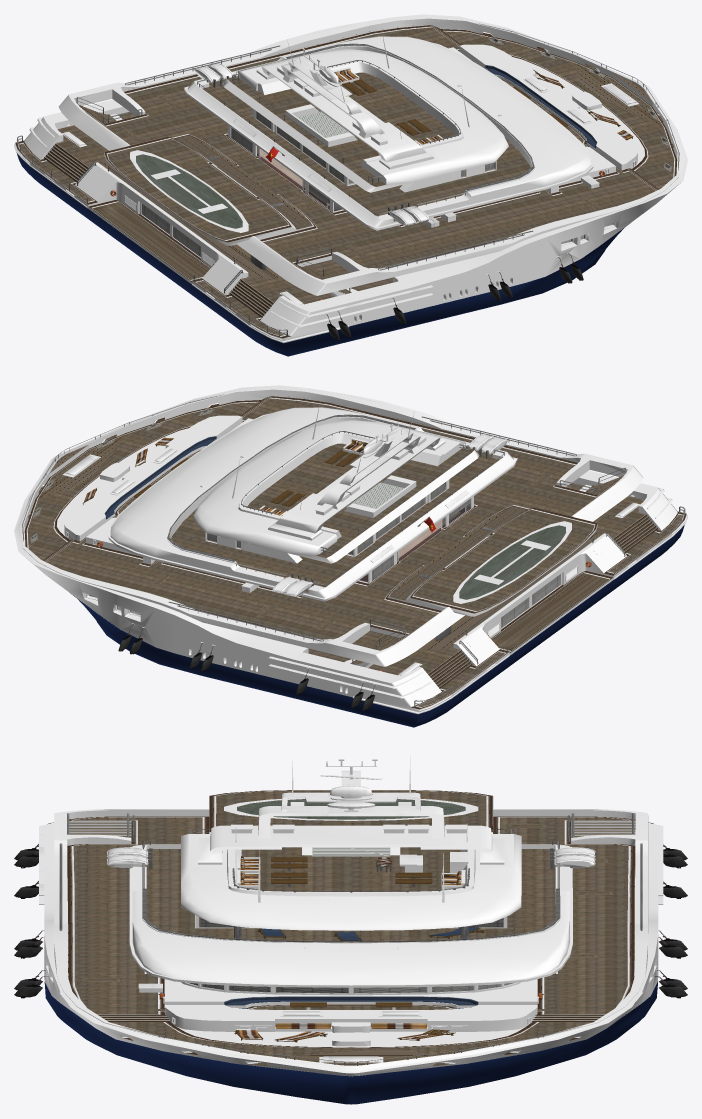
The model's file is ship-yacht.glb.
3 views of the same model, one above another, from view 1: azimuth 30°, elevation 25°; view 2: azimuth 150°, elevation 25°; view 3: azimuth 270°, elevation 25° (orthographic). The views are drawn at different scales.
Visible parts, largest first — view 1: Object_7, Object_11, Object_6, Object_15, Object_50, Object_13, Object_52, Object_9, Object_64, Object_88, Object_56, Object_90 (+2 smaller); view 2: Object_7, Object_11, Object_6, Object_15, Object_50, Object_13, Object_52, Object_9, Object_64, Object_88, Object_56, Object_90 (+2 smaller); view 3: Object_7, Object_11, Object_15, Object_6, Object_50, Object_13, Object_56, Object_88, Object_9, Object_90, Object_64, Object_68 (+3 smaller).
Boxes of the visible parts, <box> form: Object_7: <box>14,14,687,343</box>; Object_11: <box>19,26,674,335</box>; Object_6: <box>14,28,638,340</box>; Object_15: <box>17,154,630,356</box>; Object_50: <box>15,25,677,338</box>; Object_13: <box>17,23,679,336</box>; Object_52: <box>136,154,242,228</box>; Object_9: <box>141,45,612,257</box>; Object_64: <box>141,111,493,256</box>; Object_88: <box>342,69,633,140</box>; Object_56: <box>327,265,583,339</box>; Object_90: <box>485,65,597,148</box>; Object_7: <box>14,385,687,714</box>; Object_11: <box>27,397,682,706</box>; Object_6: <box>62,399,687,711</box>; Object_15: <box>70,525,684,727</box>; Object_50: <box>24,396,686,709</box>; Object_13: <box>22,394,685,707</box>; Object_52: <box>459,525,566,599</box>; Object_9: <box>89,416,560,628</box>; Object_64: <box>207,482,560,627</box>; Object_88: <box>82,437,359,506</box>; Object_56: <box>118,635,374,710</box>; Object_90: <box>104,436,216,519</box>; Object_7: <box>39,790,663,1076</box>; Object_11: <box>69,790,635,1065</box>; Object_15: <box>44,976,658,1104</box>; Object_6: <box>39,756,663,1062</box>; Object_50: <box>67,790,635,1054</box>; Object_13: <box>47,813,653,1065</box>; Object_56: <box>14,849,687,997</box>; Object_88: <box>234,857,486,1042</box>; Object_9: <box>158,917,543,993</box>; Object_90: <box>224,927,478,1008</box>; Object_64: <box>190,856,511,993</box>; Object_68: <box>239,856,461,1040</box>.
Bounding box in the file's own units: 1 × 0.3184 × 0.9999.
Materials: 44 (39 with a texture image).
